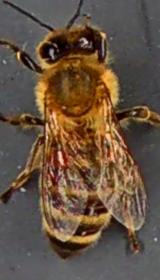varroa_mite: (46, 142, 68, 174)
